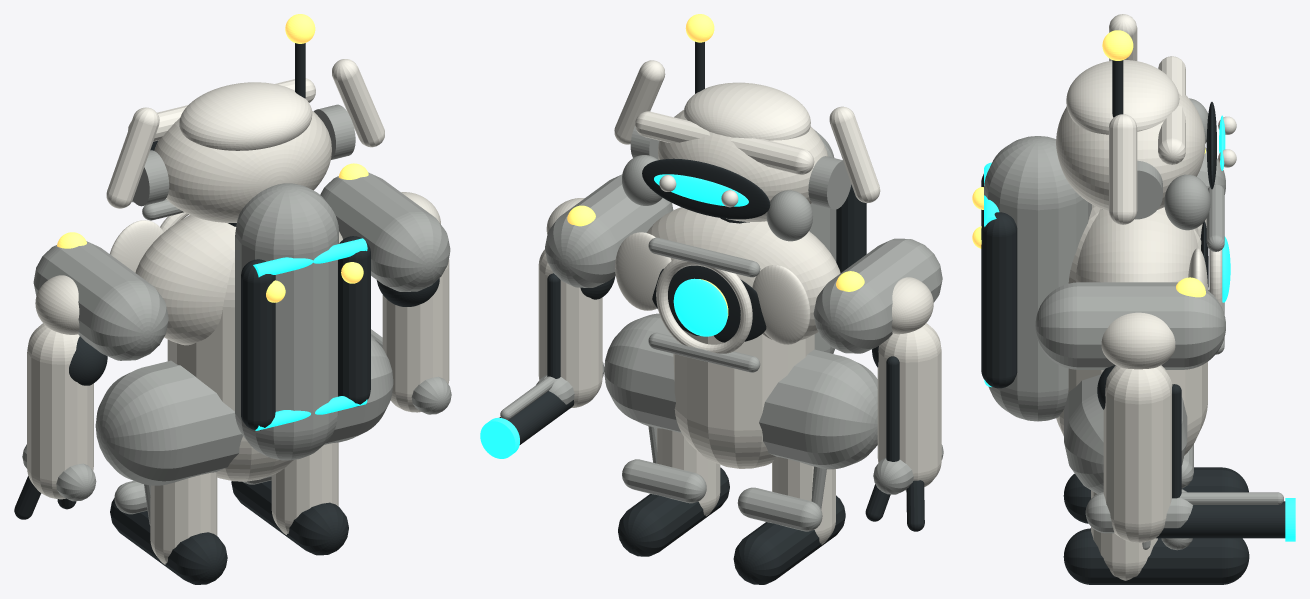
Rendered from robot_ai.glb.
3 views of the same model, side by side, from view 1: azimuth 30°, elevation 25°; view 2: azimuth 150°, elevation 25°; view 3: azimuth 270°, elevation 25° (orthographic). The views are drawn at different scales.
Visible parts, largest first — view 1: BackpackMain, PelvisFrame, HeadShell, RightShoulderBlock, LeftShoulderBlock, LeftForearmArmor, UpperChestArmor, HeadTopDome, RightForearmArmor, LowerTorsoArmor, BackpackBatteryLeft, BackpackBatteryRight (+21 smaller); view 2: PelvisFrame, LowerTorsoArmor, LeftShoulderBlock, LeftForearmArmor, UpperChestArmor, RightShoulderBlock, RightForearmArmor, HeadTopDome, HeadShell, LeftFoot, RightFoot, FacePlate (+30 smaller); view 3: BackpackMain, RightShoulderBlock, RightForearmArmor, UpperChestArmor, RightFoot, HeadShell, BackpackBatteryRight, HeadTopDome, PelvisFrame, RightBlasterBarrel, RightShoulderIvoryCap, RightHelmetEarFin (+20 smaller).
Part boxes in pixels (<box>): BackpackMain: <box>235,183,338,460</box>; PelvisFrame: <box>95,336,393,485</box>; HeadShell: <box>154,111,331,222</box>; RightShoulderBlock: <box>320,172,450,291</box>; LeftShoulderBlock: <box>33,241,168,360</box>; LeftForearmArmor: <box>27,323,93,499</box>; UpperChestArmor: <box>135,215,342,345</box>; HeadTopDome: <box>179,82,312,150</box>; RightForearmArmor: <box>382,259,449,412</box>; LowerTorsoArmor: <box>167,258,293,481</box>; BackpackBatteryLeft: <box>241,259,275,430</box>; BackpackBatteryRight: <box>338,236,370,406</box>; PelvisFrame: <box>604,313,877,469</box>; LowerTorsoArmor: <box>673,329,814,468</box>; LeftShoulderBlock: <box>813,238,942,353</box>; LeftForearmArmor: <box>877,323,941,490</box>; UpperChestArmor: <box>647,207,840,340</box>; RightShoulderBlock: <box>545,174,673,287</box>; RightForearmArmor: <box>538,249,602,407</box>; HeadTopDome: <box>683,82,810,140</box>; HeadShell: <box>658,110,828,221</box>; LeftFoot: <box>733,495,845,584</box>; RightFoot: <box>618,467,729,556</box>; FacePlate: <box>642,158,770,219</box>; BackpackMain: <box>984,136,1091,421</box>; RightShoulderBlock: <box>1035,282,1225,369</box>; RightForearmArmor: <box>1103,365,1172,542</box>; UpperChestArmor: <box>1076,207,1198,282</box>; RightFoot: <box>1063,528,1249,584</box>; HeadShell: <box>1056,93,1205,211</box>; BackpackBatteryRight: <box>981,212,1017,388</box>; HeadTopDome: <box>1066,60,1179,134</box>; PelvisFrame: <box>1064,374,1187,493</box>; RightBlasterBarrel: <box>1156,501,1285,538</box>; RightShoulderIvoryCap: <box>1101,312,1175,369</box>; RightHelmetEarFin: <box>1109,114,1137,224</box>.
Bounding box in the file's own units: 1.91 × 2.34 × 1.26.
